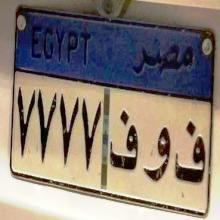7: (59, 94, 78, 174), (16, 81, 35, 161), (36, 88, 56, 163), (82, 93, 100, 169)
faa: (172, 116, 208, 192), (111, 106, 138, 180)
waw: (143, 116, 171, 191)
